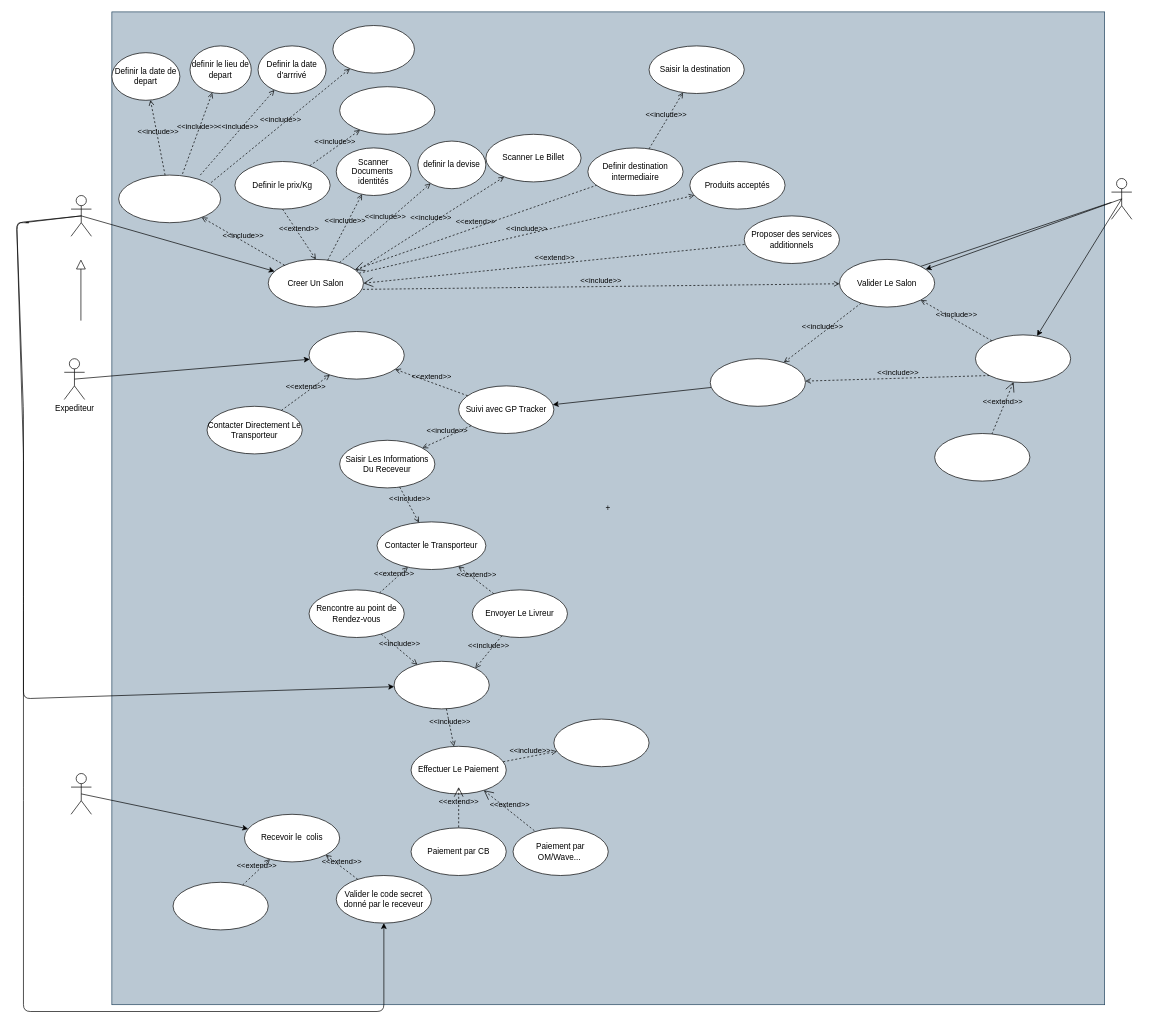
Some shapes in this 1149 by 1029 pixel diagram are drawn without their labels. Each missing label, with the box of its shape:
Confirmer La Reception: (393, 661, 489, 709)
Definir Date/Heure de vol: (118, 174, 221, 223)
definir le Kg disponible: (339, 86, 435, 134)
definir le lieu d'arrivé: (332, 25, 414, 73)
Definr des moderateurs: (975, 334, 1071, 382)
Envoyer Le Code Secret A L'Expediteur: (553, 718, 649, 767)
Receveur: (70, 773, 91, 814)
Selectionner Un Salon: (308, 331, 404, 379)
Support de client: (934, 433, 1030, 481)
Systeme: (1111, 178, 1132, 219)
Transporteur: (70, 195, 91, 236)
Valider la reception: (172, 882, 268, 930)
Verifier Les Documents: (710, 358, 805, 406)
